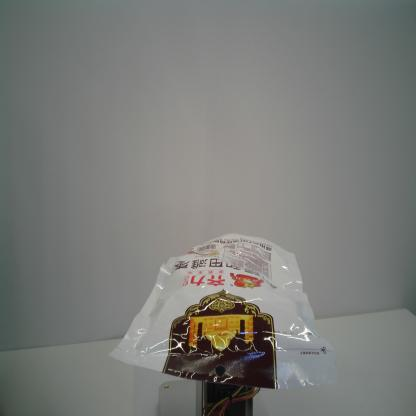Dried Food: (107, 232, 342, 389)
